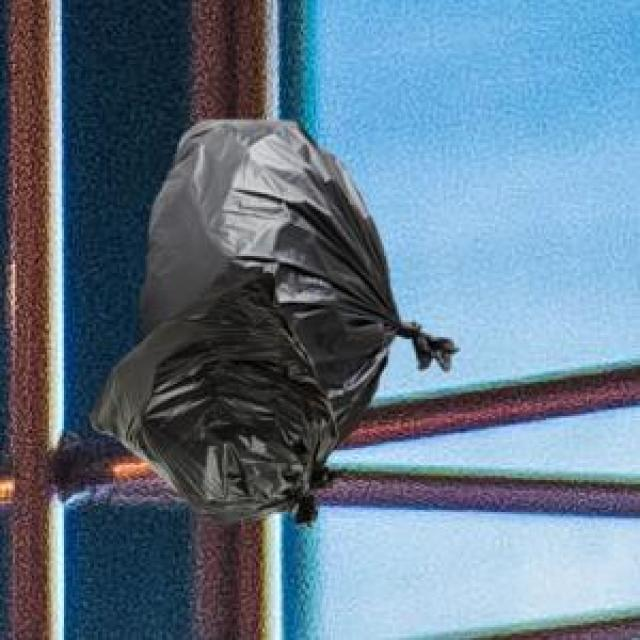waste: (91, 120, 455, 516)
